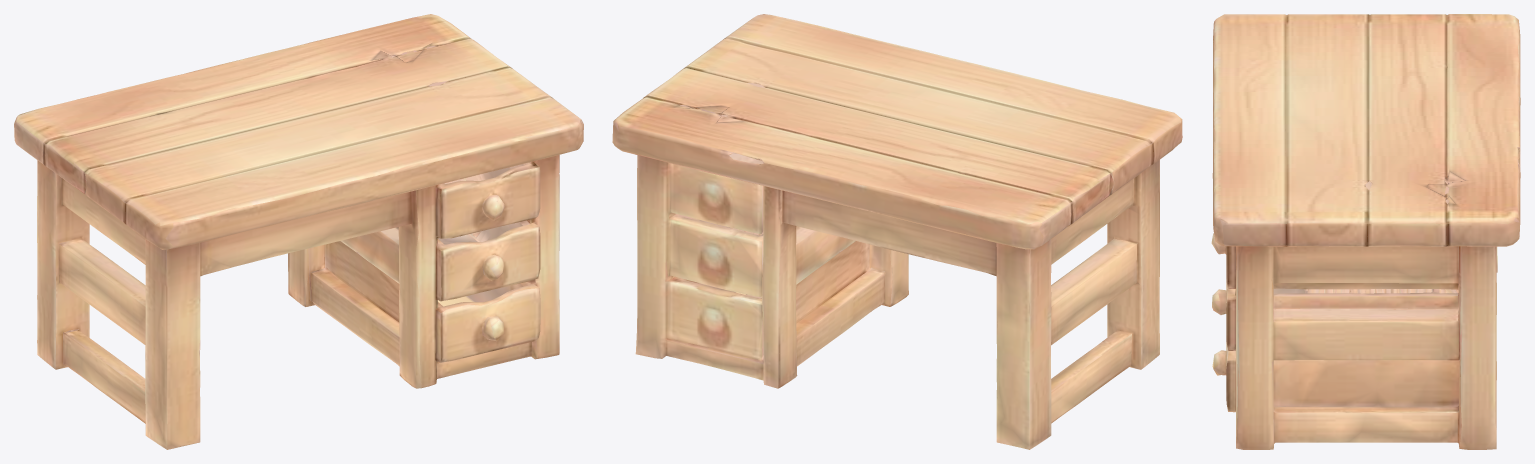
Rendered from Wood_desk.glb.
The picture shows the model from 3 angles, left to right: view 1: azimuth 30°, elevation 25°; view 2: azimuth 150°, elevation 25°; view 3: azimuth 270°, elevation 25°; orthographic projection.
Parts seen in each view (by area): view 1: Mesh_0; view 2: Mesh_0; view 3: Mesh_0.
Part boxes in pixels (x1,y1,x2,y2): Mesh_0: [14, 14, 583, 449]; Mesh_0: [612, 14, 1182, 449]; Mesh_0: [1211, 14, 1520, 449].
Bounding box in the file's own units: 1.91 × 1.01 × 1.19.
Materials: 1 (1 with a texture image).
